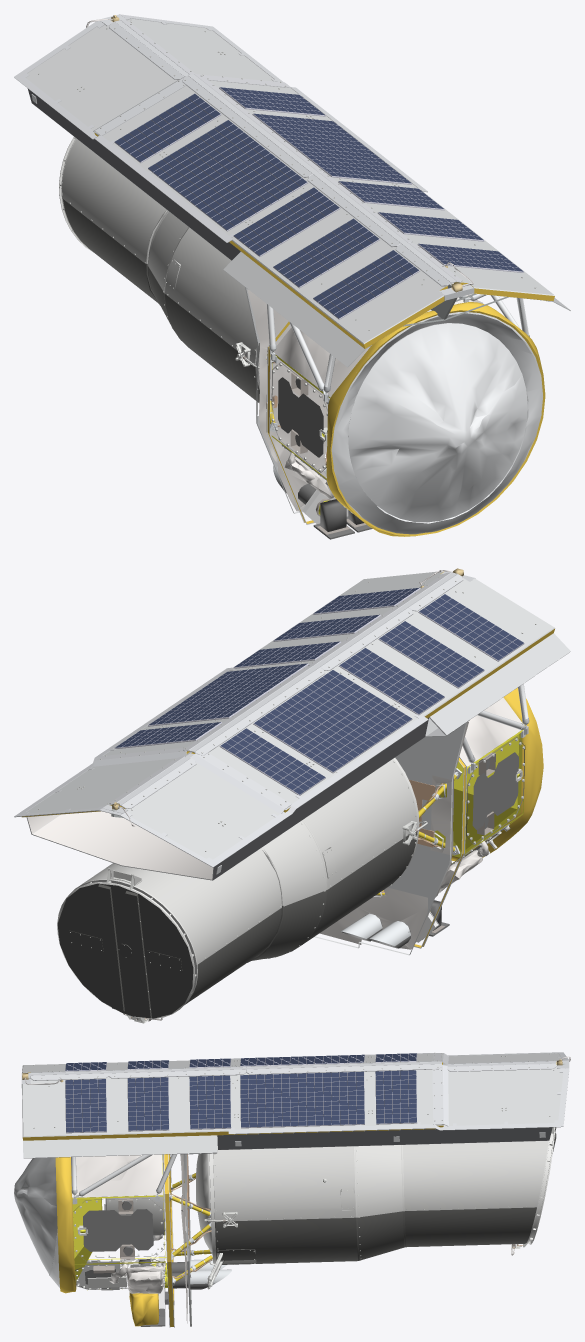
File: spitzer.glb
3 renders of one model, top to bottom at view 1: azimuth 30°, elevation 25°; view 2: azimuth 150°, elevation 25°; view 3: azimuth 270°, elevation 25°, orthographic. The views are drawn at different scales.
Visible parts, largest first — view 1: Object_4; view 2: Object_4; view 3: Object_4.
Part boxes in pixels (left/top/right/bottom): Object_4: left=14, top=14, right=570, bottom=539; Object_4: left=14, top=568, right=570, bottom=1023; Object_4: left=14, top=1052, right=570, bottom=1327.
Size of the model in its own units: 0.7798 by 1.06 by 2.15.
1 material, 1 textured.
